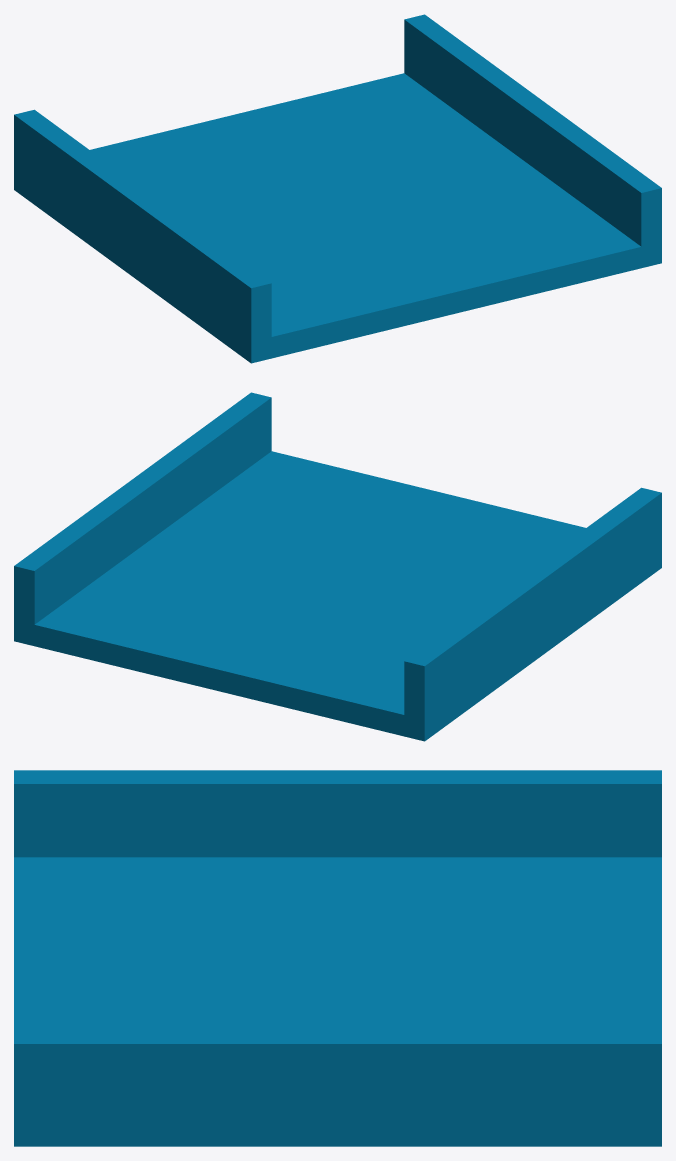
The model's file is BlueRoof_2Edges.glb.
3 views of the same model, one above another, from view 1: azimuth 30°, elevation 25°; view 2: azimuth 150°, elevation 25°; view 3: azimuth 270°, elevation 25° (orthographic). The views are drawn at different scales.
Parts seen in each view (by area): view 1: roof_flat_2Edges_blue; view 2: roof_flat_2Edges_blue; view 3: roof_flat_2Edges_blue.
Boxes of the visible parts, <box> form: roof_flat_2Edges_blue: <box>14,14,661,363</box>; roof_flat_2Edges_blue: <box>14,392,661,741</box>; roof_flat_2Edges_blue: <box>14,770,661,1146</box>.
Size of what is drawn, in the model's own units: 4 by 0.7 by 4.
1 material, 1 textured.
